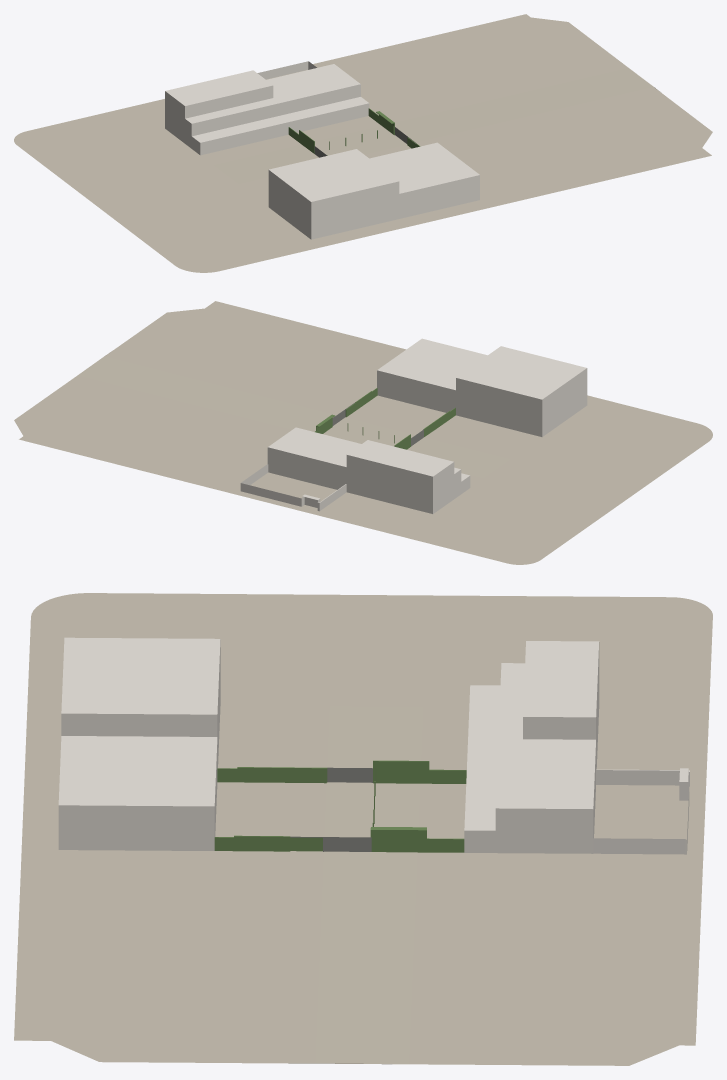
3 views of the same model, one above another, from view 1: azimuth 30°, elevation 25°; view 2: azimuth 150°, elevation 25°; view 3: azimuth 270°, elevation 25° (orthographic). The views are drawn at different scales.
Parts seen in each view (by area): view 1: N1_suelo, S1_suelo, entorno_suelo, S2_suelo, S0_edif, N0_edif, N1_edif, S1_edif, N1_seto; view 2: N1_suelo, S1_suelo, entorno_suelo, S2_suelo, S0_edif, N0_edif, S1_edif, N1_edif, N1_seto; view 3: N1_suelo, S1_suelo, entorno_suelo, S2_suelo, S1_edif, S0_edif, N1_edif, N0_edif, N2_edif, N1_seto, S1_seto, S0_seto (+1 smaller).
Boxes of the visible parts, bbox=[...] form: N1_suelo: bbox=[33, 17, 627, 201]; S1_suelo: bbox=[112, 87, 680, 263]; entorno_suelo: bbox=[14, 14, 712, 272]; S2_suelo: bbox=[213, 67, 653, 184]; S0_edif: bbox=[268, 149, 399, 239]; N0_edif: bbox=[165, 70, 288, 155]; N1_edif: bbox=[257, 61, 369, 132]; S1_edif: bbox=[369, 142, 479, 218]; N1_seto: bbox=[288, 108, 394, 153]; N1_suelo: bbox=[14, 375, 607, 558]; S1_suelo: bbox=[105, 324, 690, 496]; entorno_suelo: bbox=[19, 301, 712, 564]; S2_suelo: bbox=[78, 356, 510, 478]; S0_edif: bbox=[456, 346, 587, 436]; N0_edif: bbox=[346, 440, 470, 513]; S1_edif: bbox=[377, 338, 487, 412]; N1_edif: bbox=[240, 427, 361, 510]; N1_seto: bbox=[315, 414, 410, 449]; N1_suelo: bbox=[376, 609, 696, 1065]; S1_suelo: bbox=[67, 607, 380, 1063]; entorno_suelo: bbox=[14, 593, 712, 1064]; S2_suelo: bbox=[315, 706, 423, 1064]; S1_edif: bbox=[58, 736, 217, 850]; S0_edif: bbox=[61, 637, 220, 768]; N1_edif: bbox=[464, 717, 689, 850]; N0_edif: bbox=[467, 641, 599, 769]; N2_edif: bbox=[464, 808, 686, 854]; N1_seto: bbox=[370, 760, 466, 852]; S1_seto: bbox=[214, 768, 327, 851]; S0_seto: bbox=[217, 767, 326, 782].
Size of the model in its own units: 136 by 9 by 85.08.
